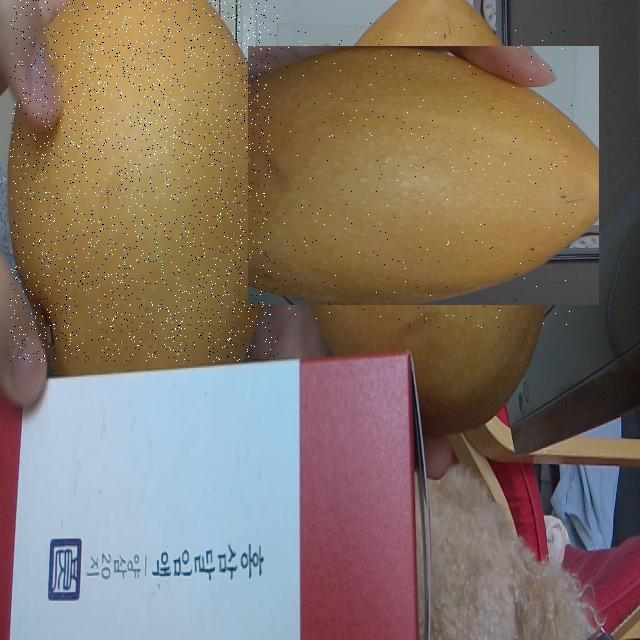pear: (10, 0, 278, 362), (271, 23, 576, 329)
